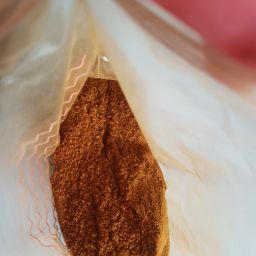Garam masala: (36, 91, 175, 256), (68, 75, 175, 256)
